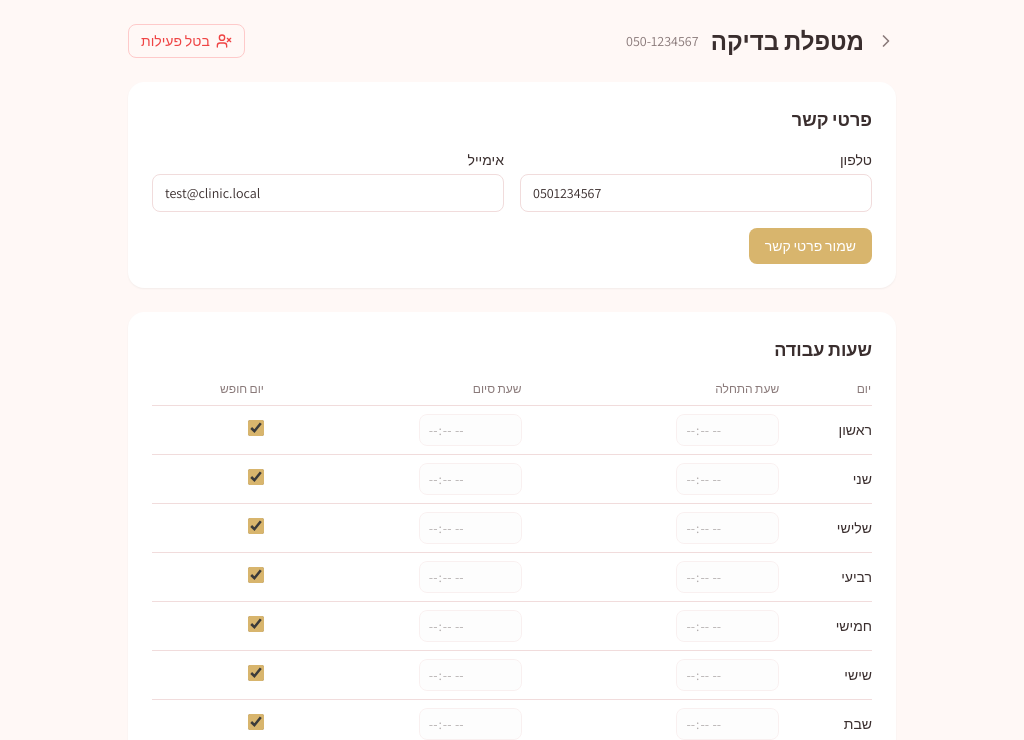
Test: TherapistDetail (Phase 012 — deactivate action, read-only mode, async wiring) › shows a Hebrew error and keeps the confirmation open when deactivation fails
The width and height of the screenshot is (1024, 740).
Step 1. Click the button "בטל פעילות" → point(186, 41), box [128,24,245,58]
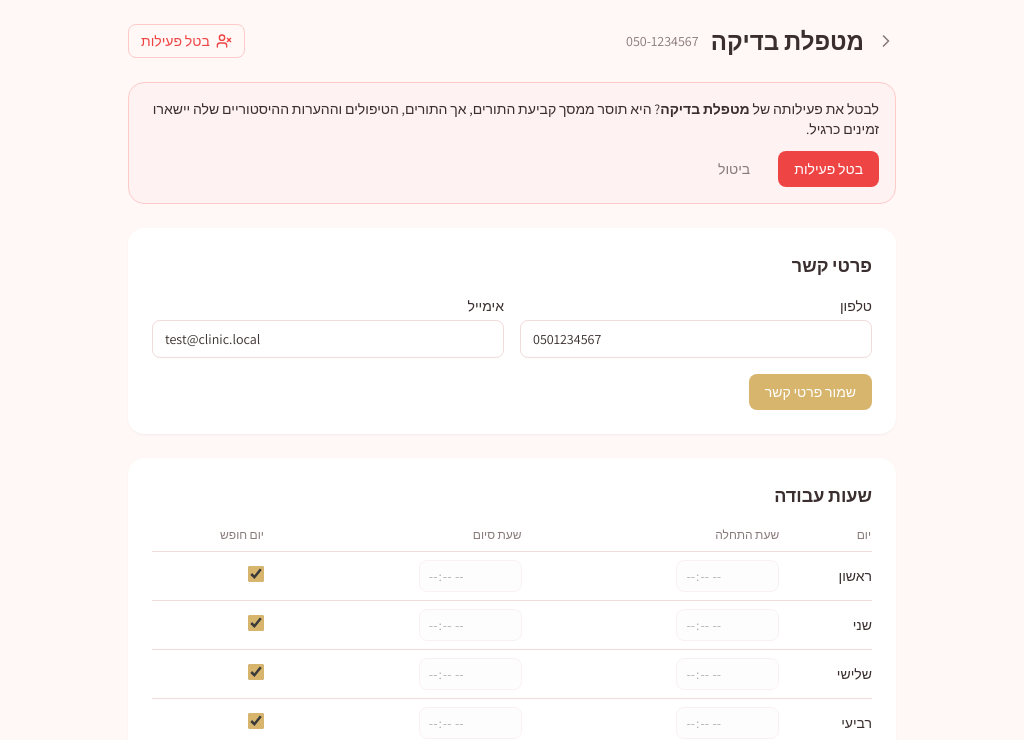
Step 2. Click the button "בטל פעילות" below "לבטל את פעילותה של" → point(829, 169), box [778,151,879,187]
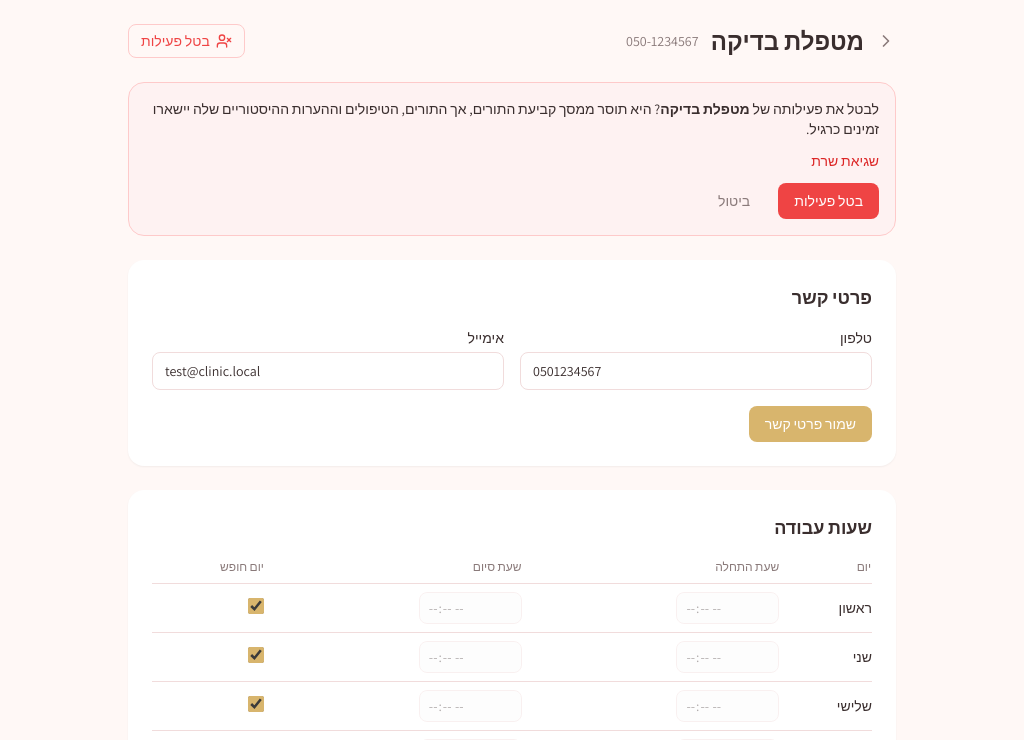
Check: the text "שגיאת שרת" is shown, box [811,152,879,170]
